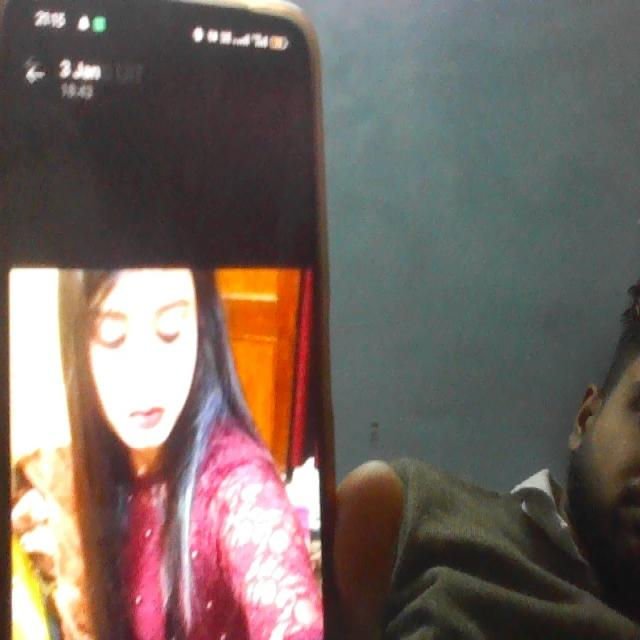fake: (69, 186, 213, 458)
